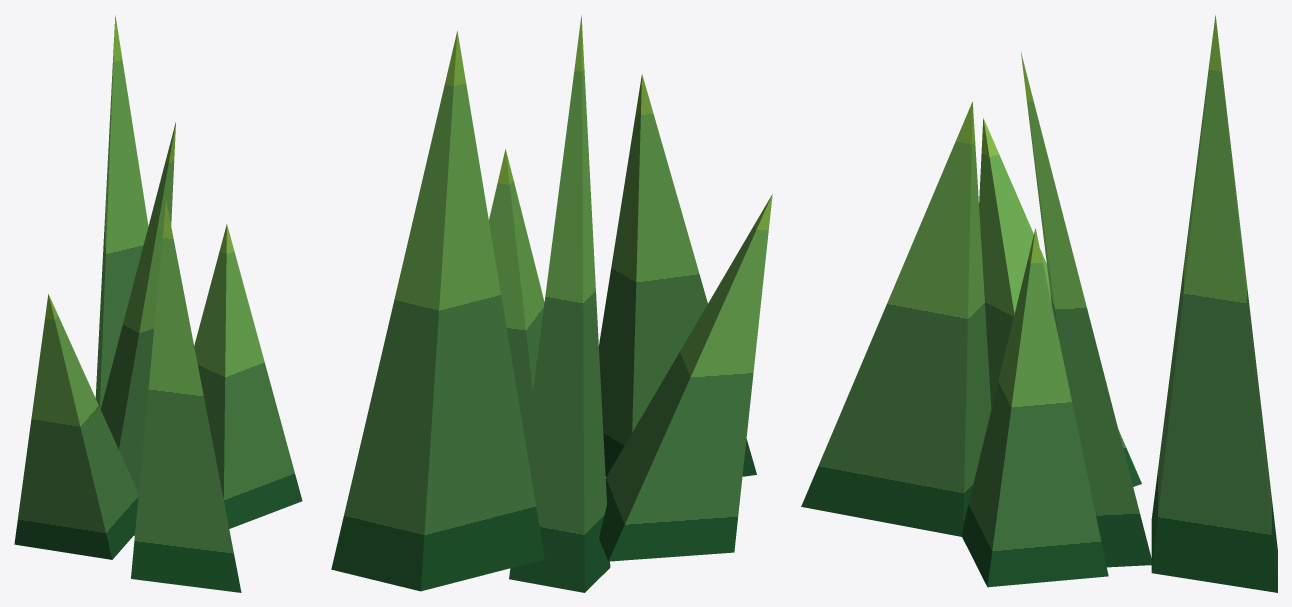
The model's file is grass.obj.
3 renders of one model, left to right at view 1: azimuth 30°, elevation 25°; view 2: azimuth 150°, elevation 25°; view 3: azimuth 270°, elevation 25°, orthographic. The views are drawn at different scales.
Parts seen in each view (by area): view 1: Grass; view 2: Grass; view 3: Grass.
Boxes of the visible parts, <box> form: Grass: <box>14,15,302,592</box>; Grass: <box>331,15,772,592</box>; Grass: <box>801,15,1277,592</box>.
Bounding box in the file's own units: 1.02 × 1.8 × 1.38.
